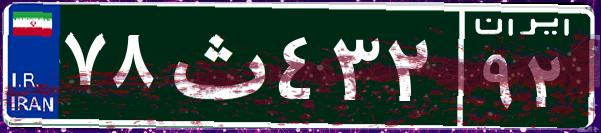2: (385, 28, 445, 110), (525, 38, 570, 115)
3: (330, 28, 385, 110)
4: (273, 28, 330, 110)
7: (57, 26, 110, 107)
8: (110, 28, 158, 105)
9: (475, 38, 525, 113)
ث: (158, 15, 273, 115)
